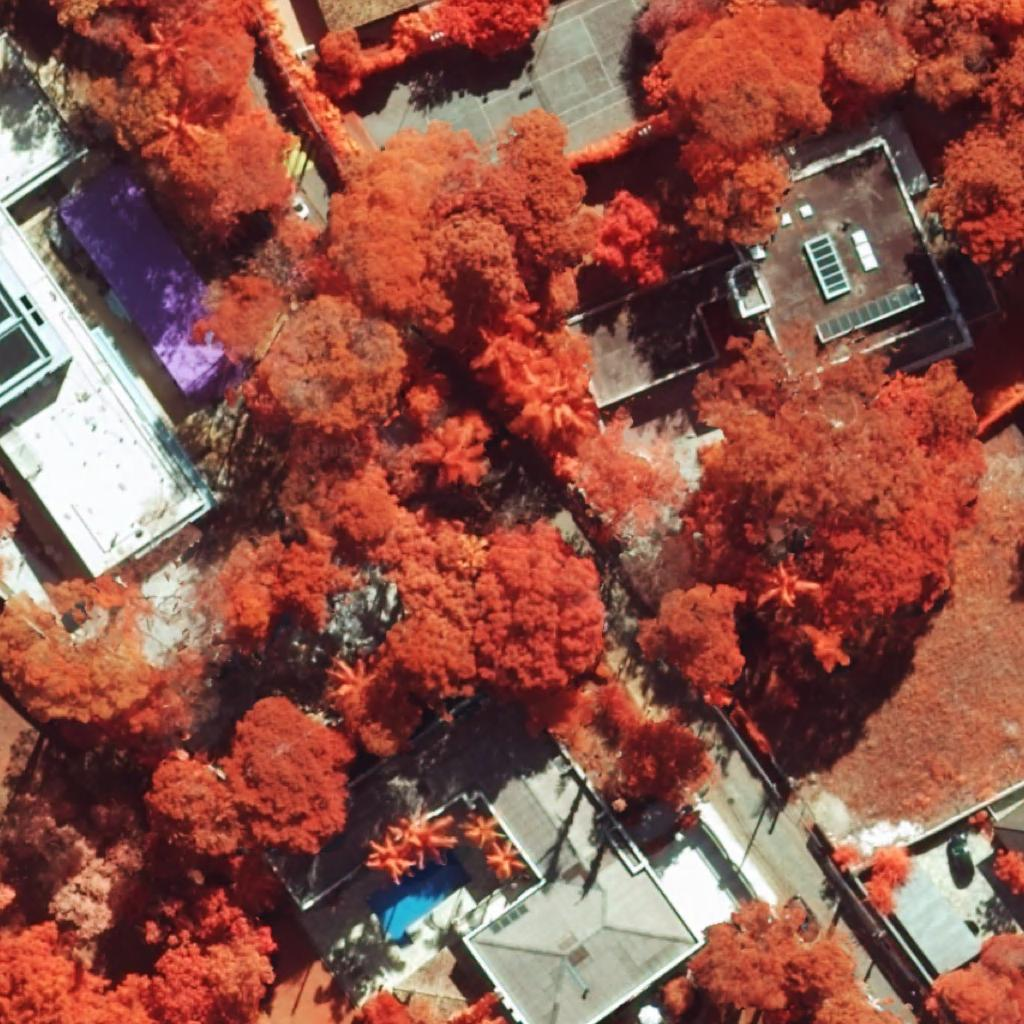pool: (367, 850, 472, 950)
